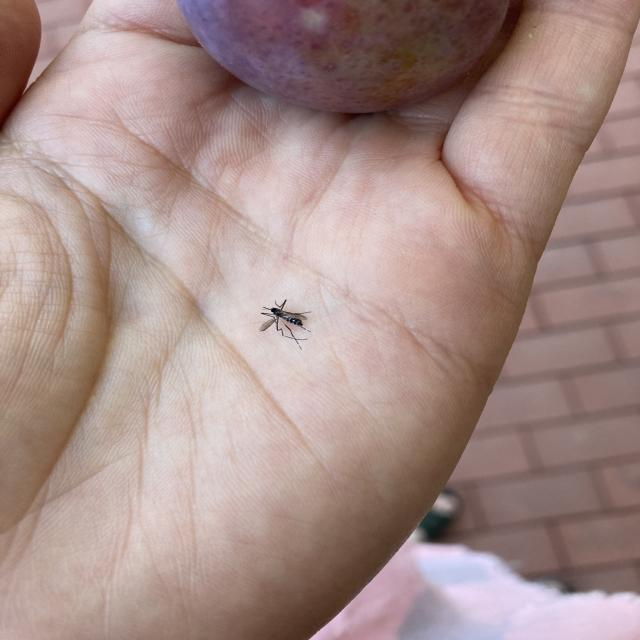albopictus: (254, 294, 317, 348)
